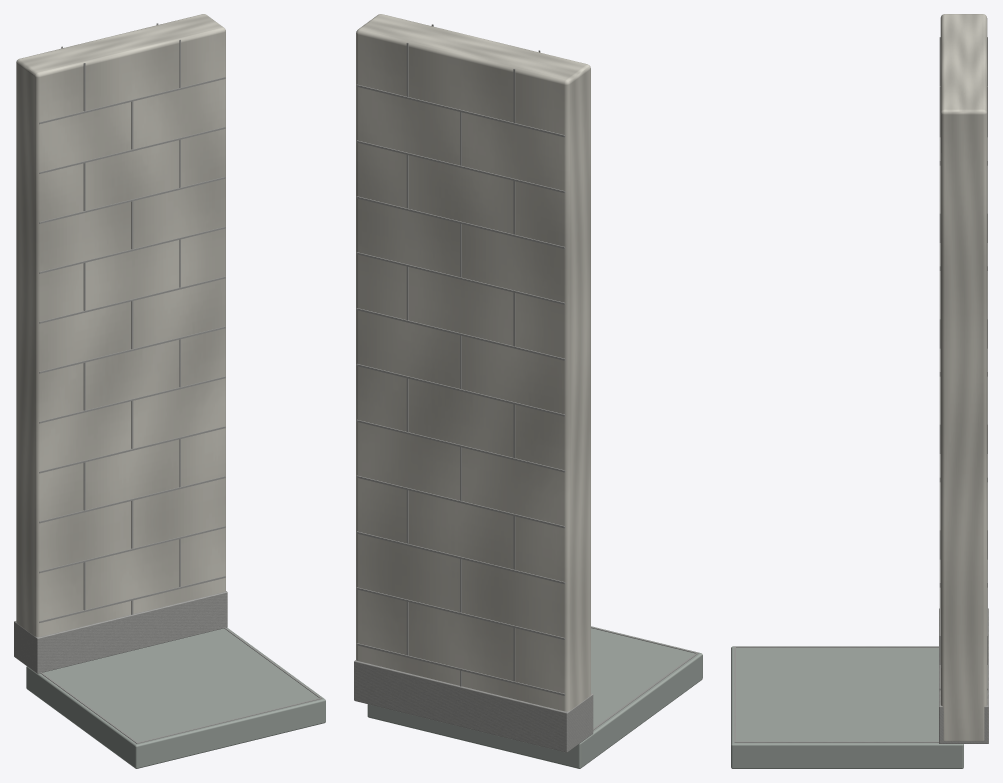
File: prison-complex-builder-corridor-t-cc6c9352__25613.glb
3 renders of one model, left to right at view 1: azimuth 30°, elevation 25°; view 2: azimuth 150°, elevation 25°; view 3: azimuth 270°, elevation 25°, orthographic. The views are drawn at different scales.
Parts seen in each view (by area): view 1: corridor-t; view 2: corridor-t; view 3: corridor-t.
Boxes of the visible parts, left/top/right/bottom form: corridor-t: left=14, top=14, right=325, bottom=768; corridor-t: left=354, top=14, right=702, bottom=768; corridor-t: left=731, top=14, right=988, bottom=768.
Size of the model in its own units: 1 by 3.12 by 1.11.
3 materials, 2 textured.
